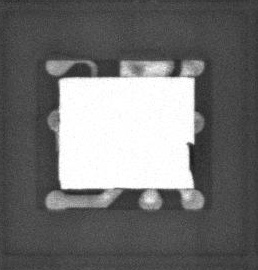DIE_BROKEN: (185, 141, 194, 187)
